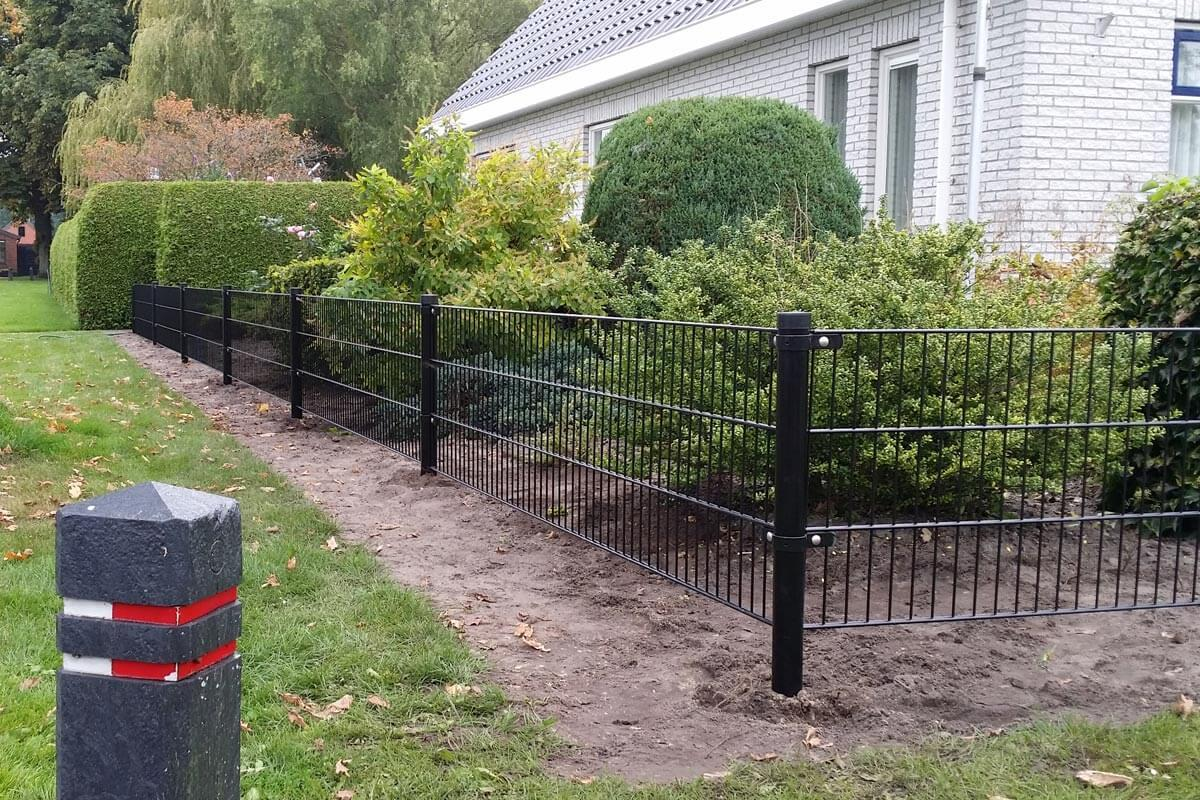obstacle: (305, 0, 1200, 798)
